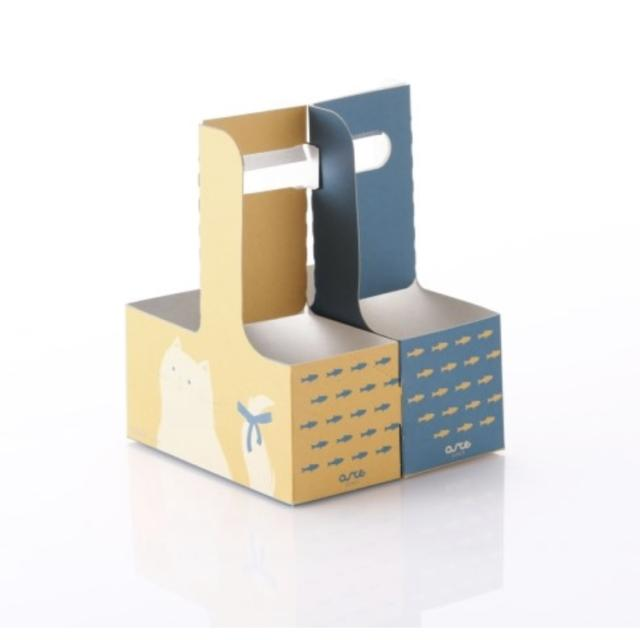biodegradable: (110, 57, 536, 546)
